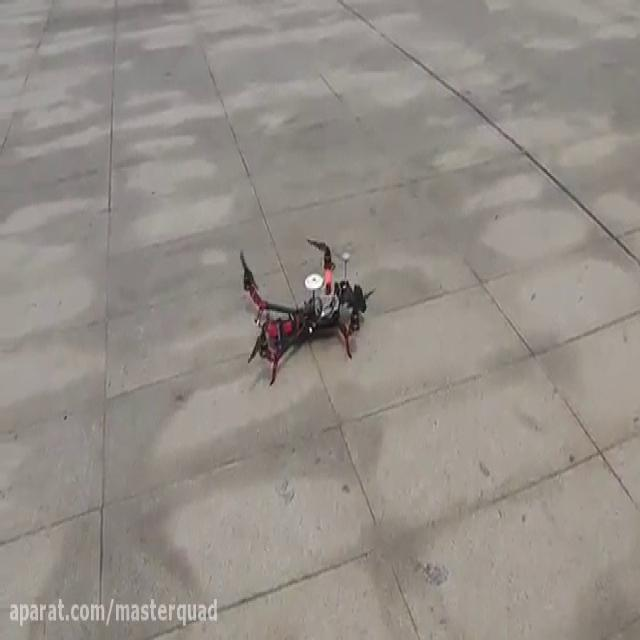drone: (230, 230, 380, 390)
